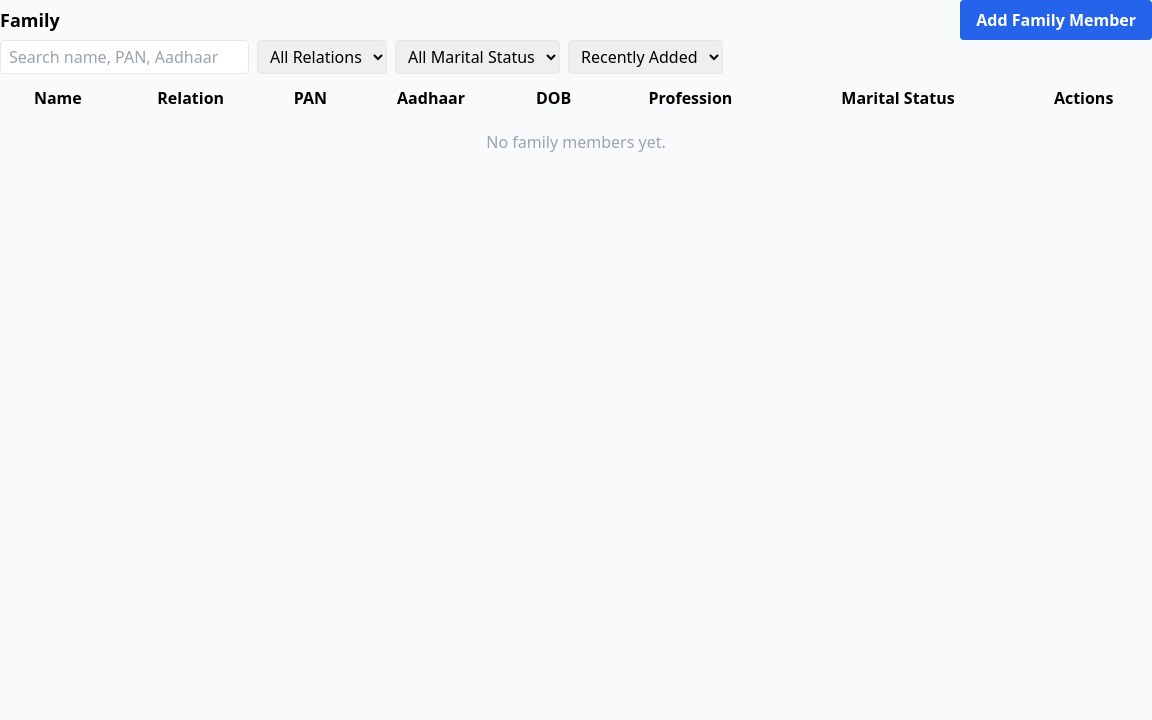
FamilyPanel › shows add modal when Add Family Member is clicked
The width and height of the screenshot is (1152, 720).
Click the button with test id "family-add": (1056, 20) [960,0,1151,40]
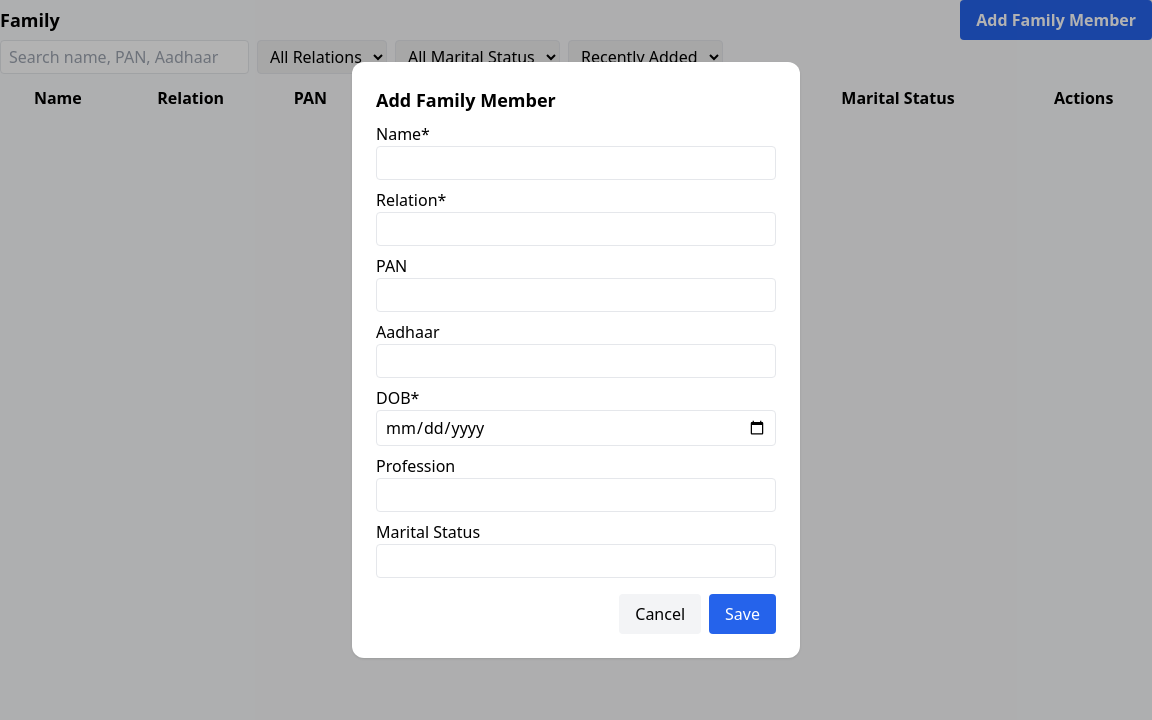
Check: the form with test id "family-add-modal" is shown, box [352,62,800,658]
